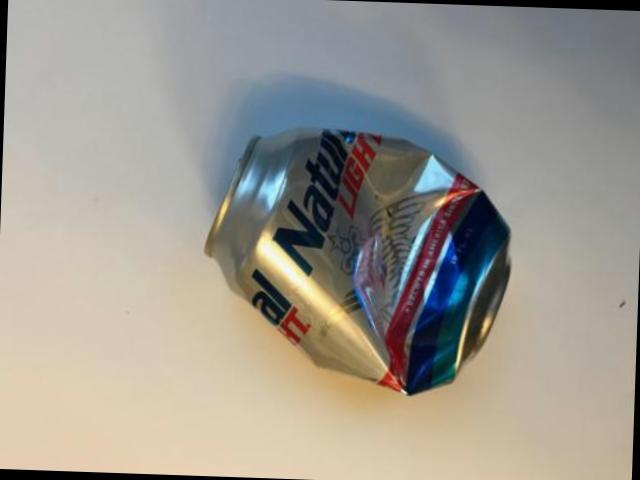metal: (204, 128, 508, 393)
